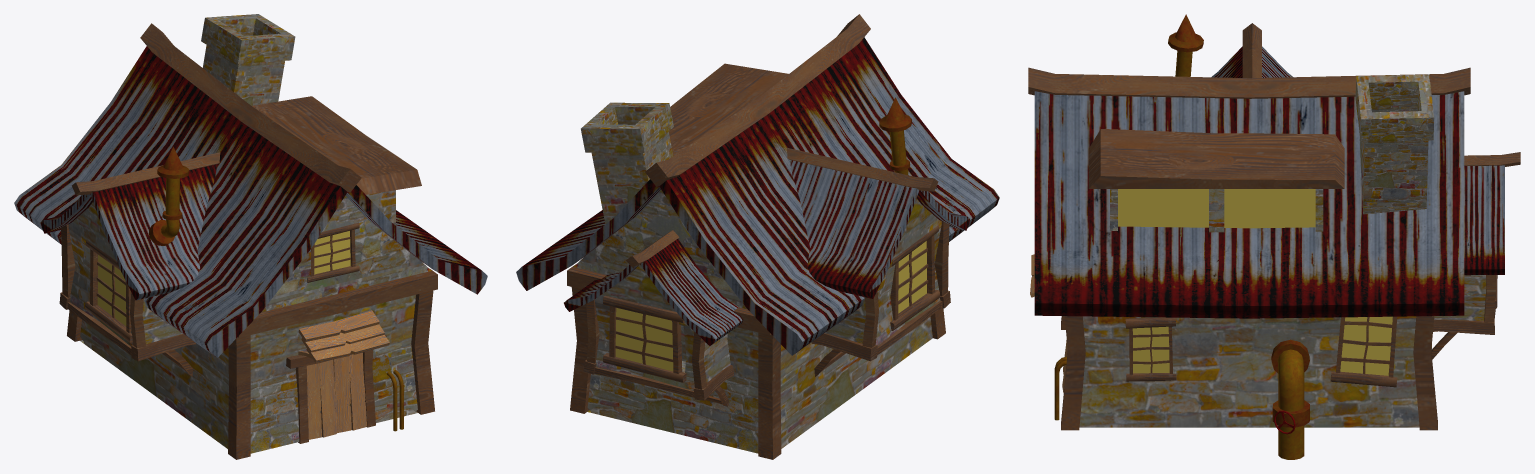
The model's file is House.fbx.
The picture shows the model from 3 angles, left to right: view 1: azimuth 30°, elevation 25°; view 2: azimuth 150°, elevation 25°; view 3: azimuth 270°, elevation 25°; orthographic projection. The views are drawn at different scales.
Visible parts, largest first — view 1: Cube.055; view 2: Cube.055; view 3: Cube.055.
Part boxes in pixels (<box>): Cube.055: <box>14,14,487,459</box>; Cube.055: <box>516,14,999,459</box>; Cube.055: <box>1028,14,1520,459</box>.
Size of the model in its own units: 663 by 607 by 809.
